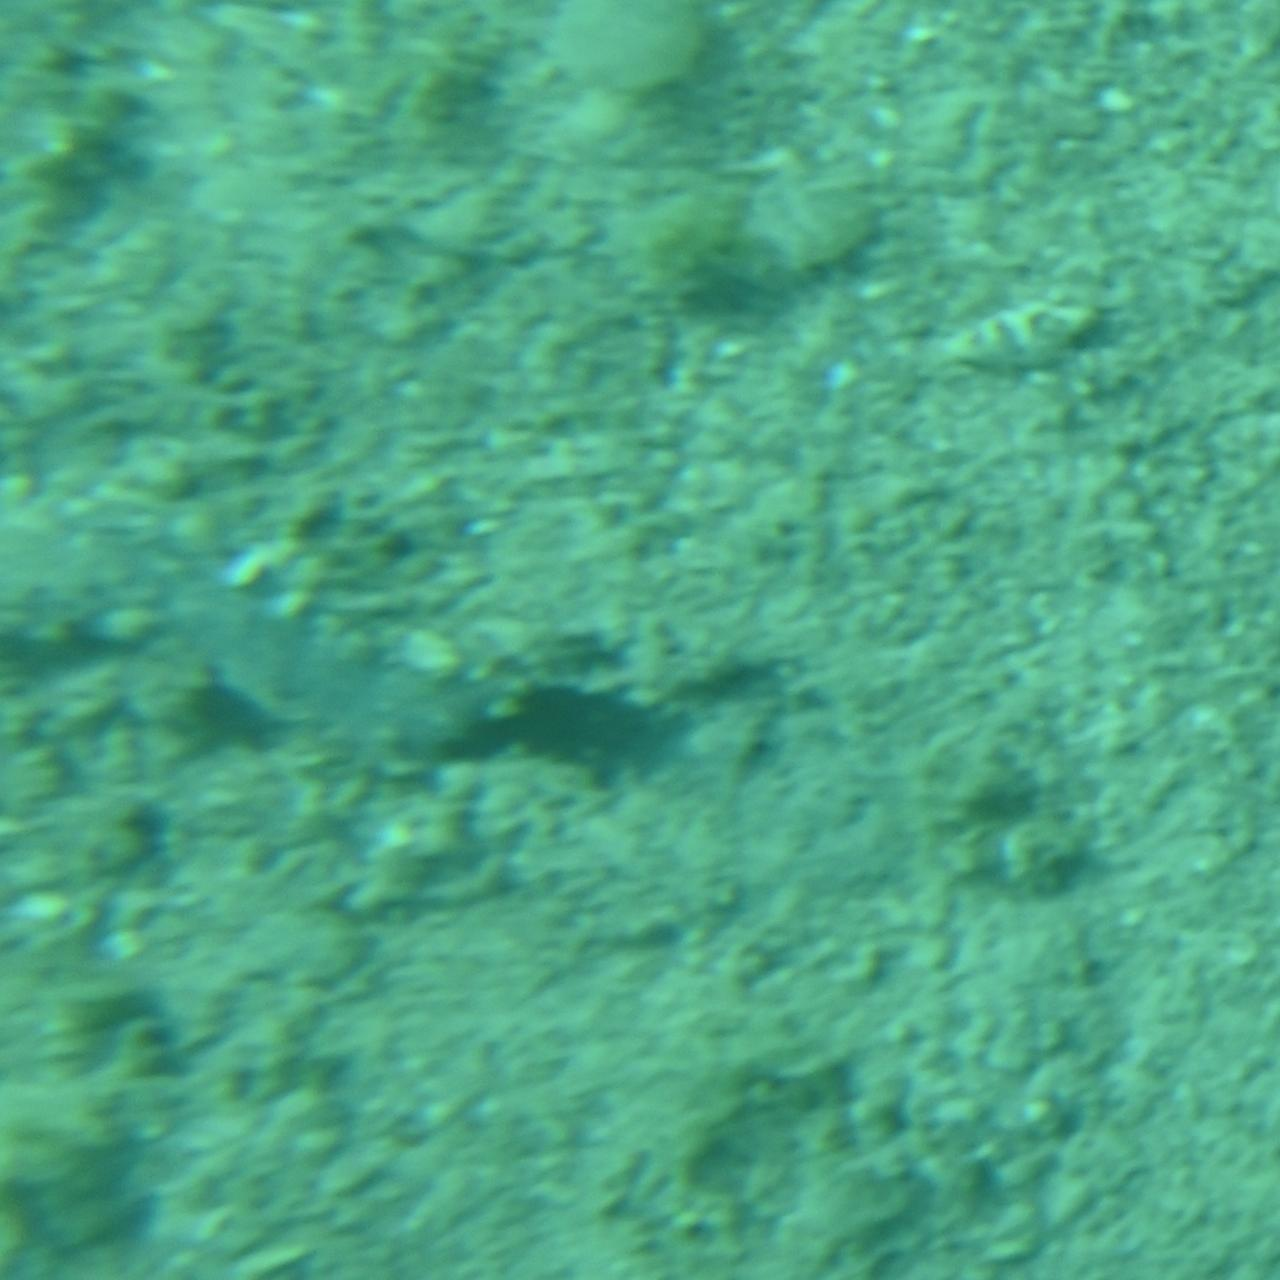Holothuria tubulosa: (35, 488, 673, 792)
